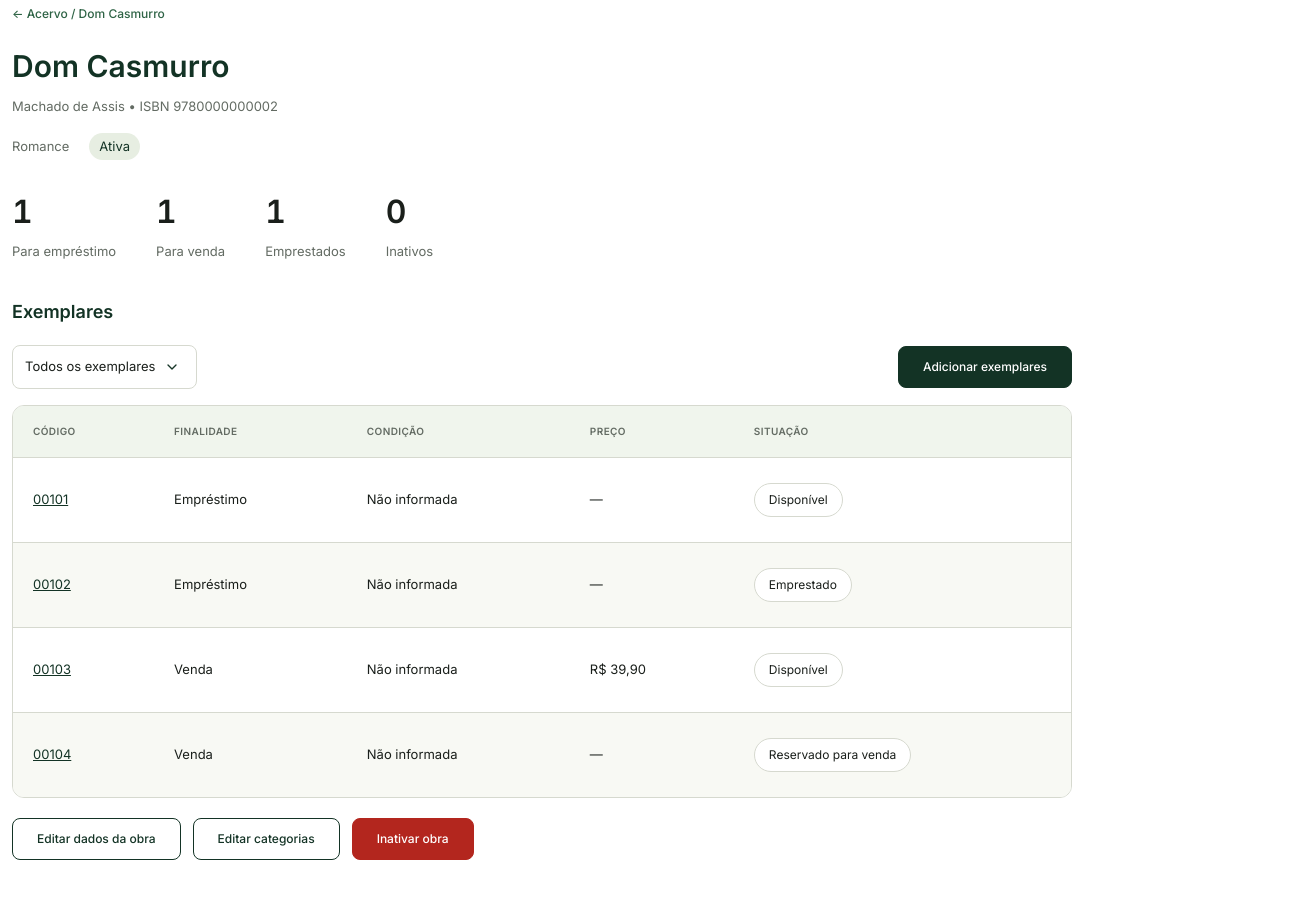
Scenario: Balcão: detalhes da obra › cancela a edição de categorias sem persistir e restaura a seleção
Step 1. Click the button "Editar categorias" → click(266, 838), box [192,818,340,860]
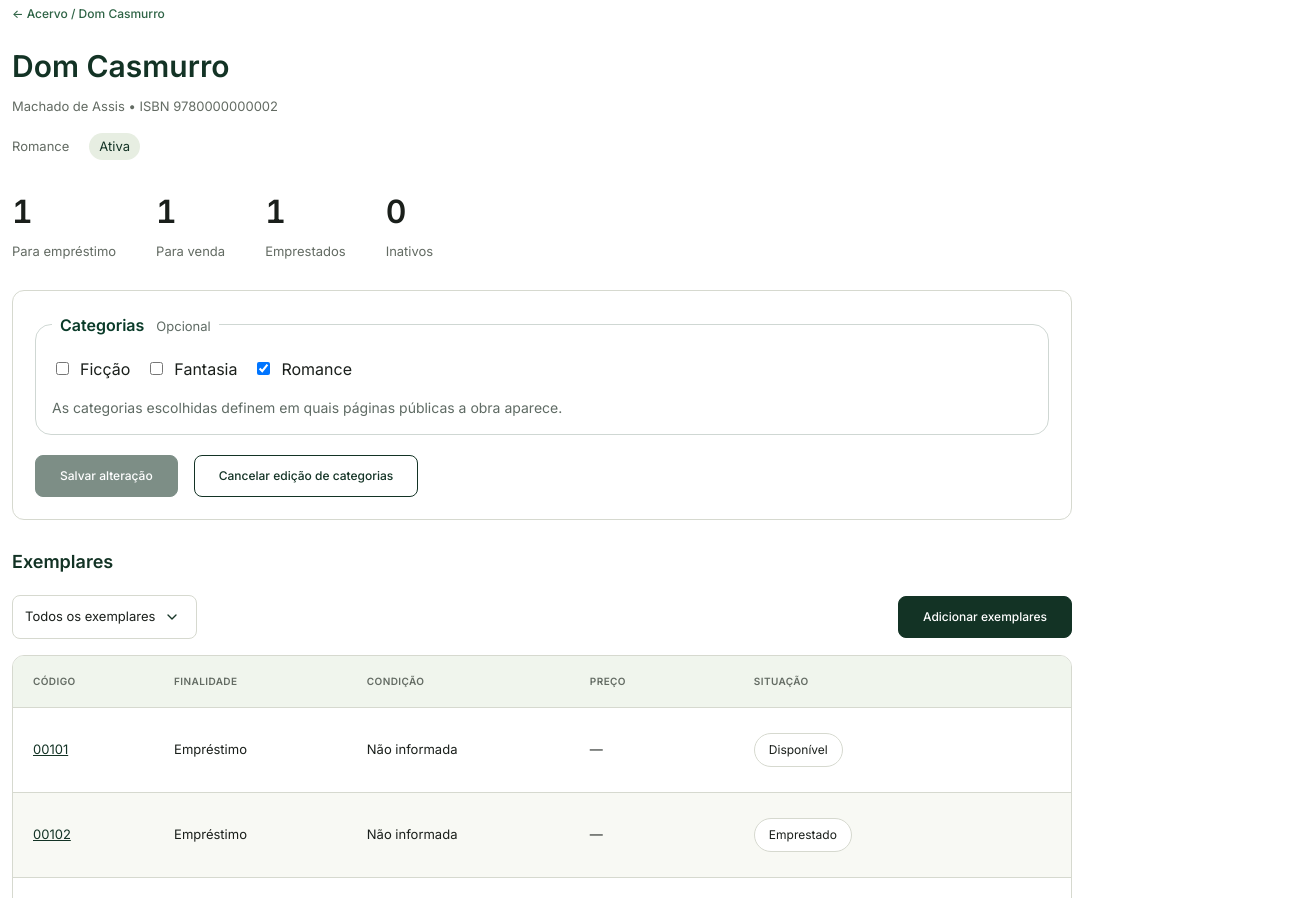
Step 2. Click the checkbox with id "book-genre-4" → click(157, 368), box [150,362,163,375]
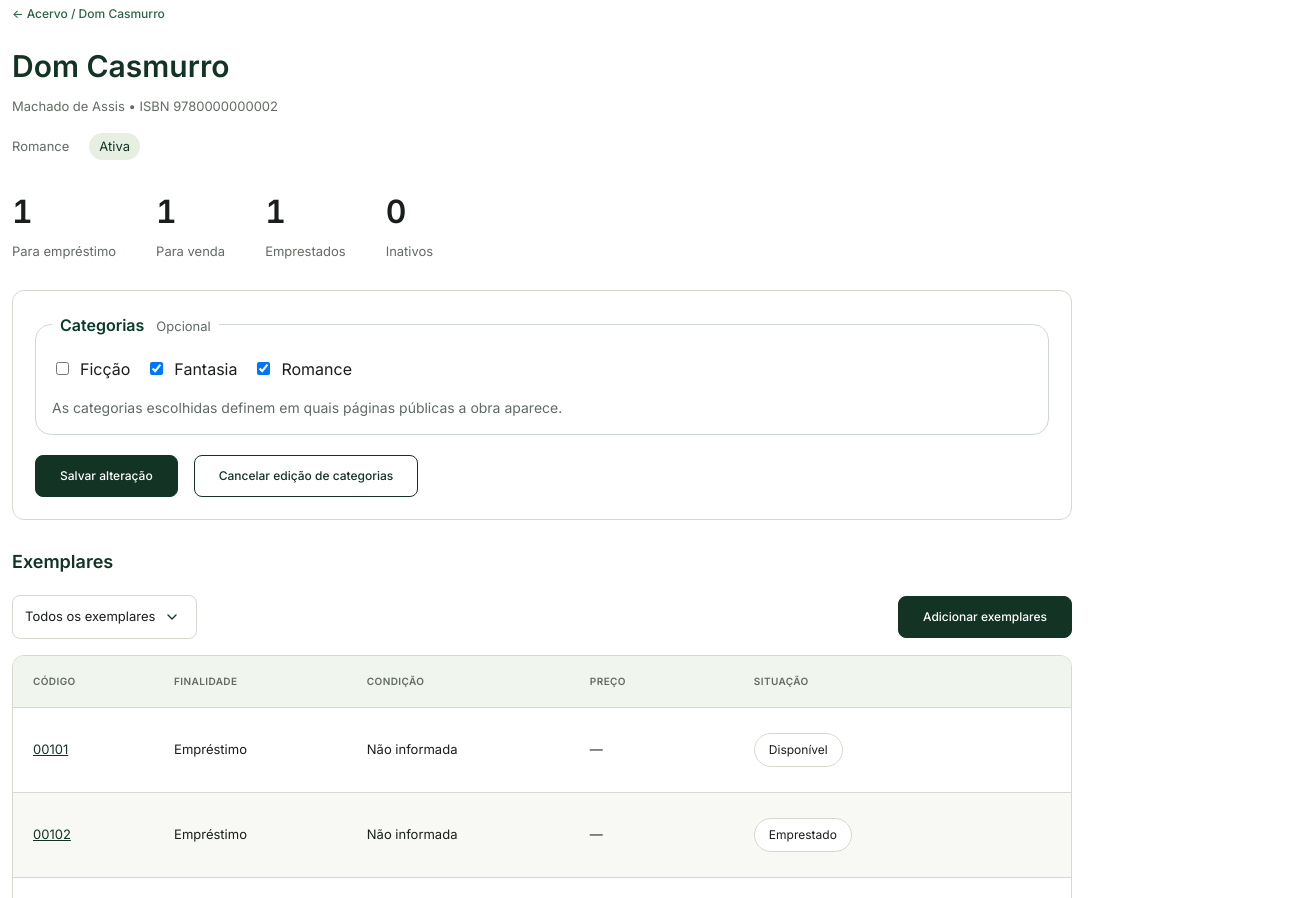
Step 3. Click the checkbox with id "book-genre-7" → click(264, 368), box [257,362,270,375]
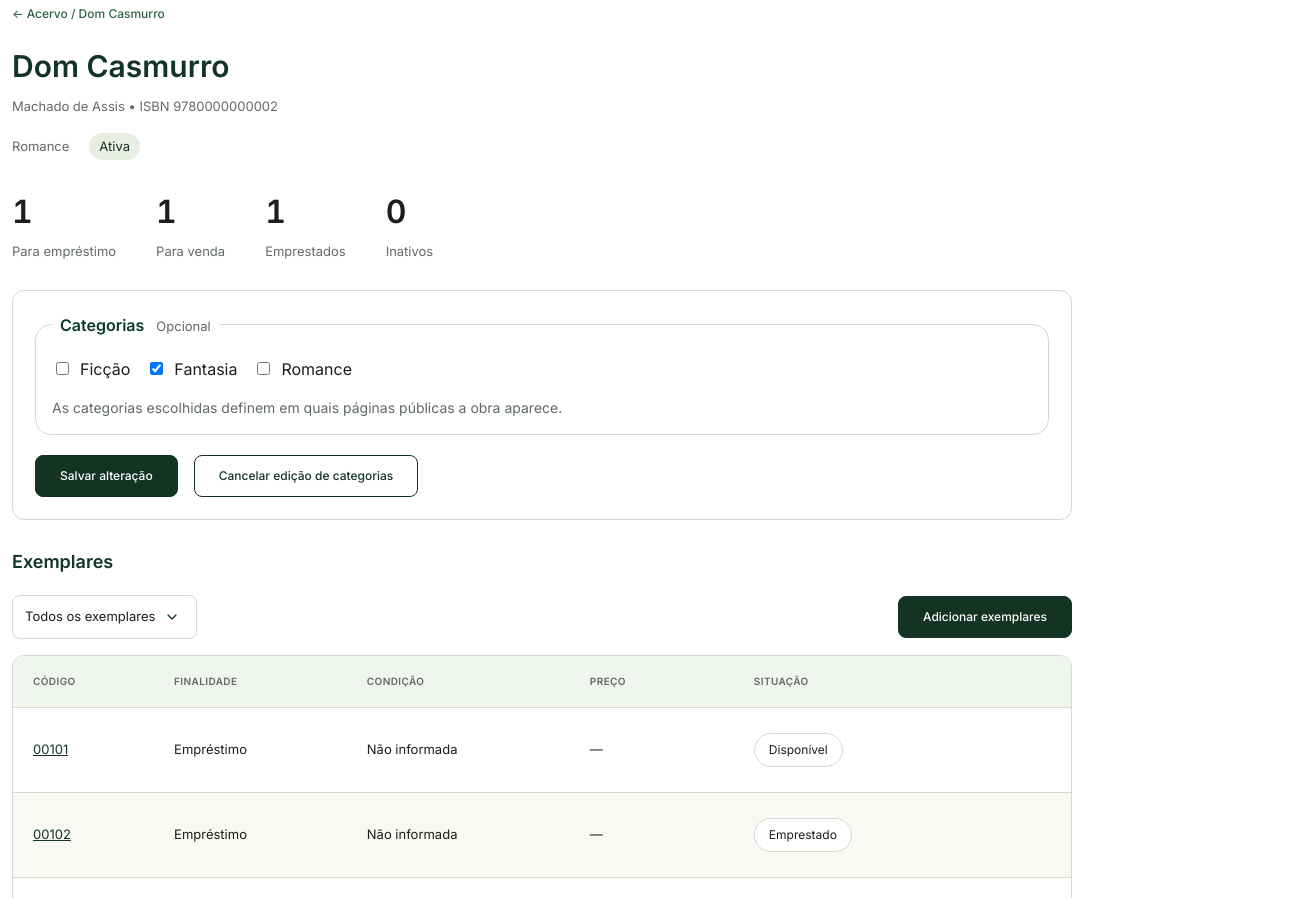
Step 4. Click the button "Cancelar edição de categorias" → click(306, 476), box [194,454,418,496]
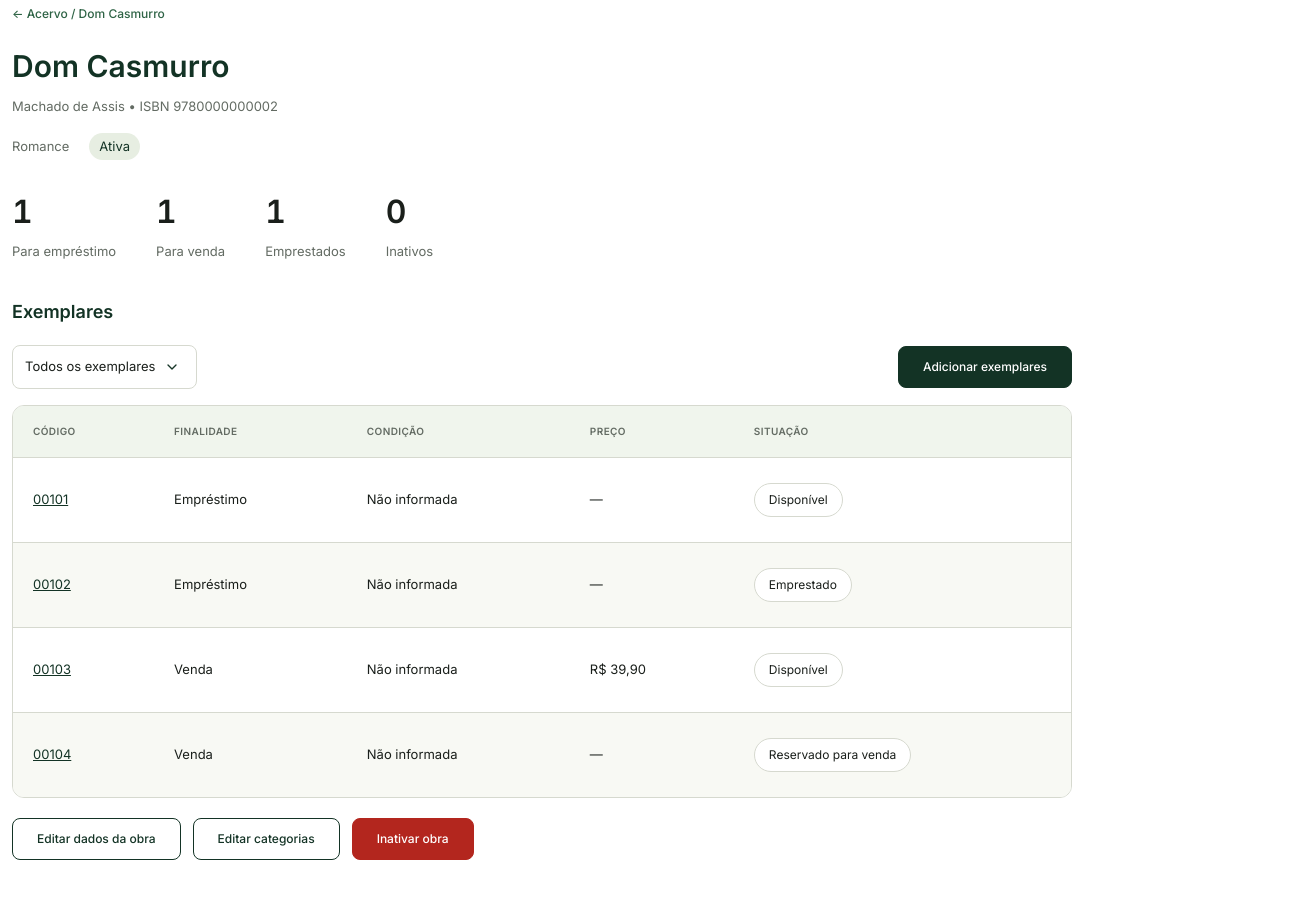
Step 5. Click the button "Editar categorias" → click(266, 838), box [192,818,340,860]
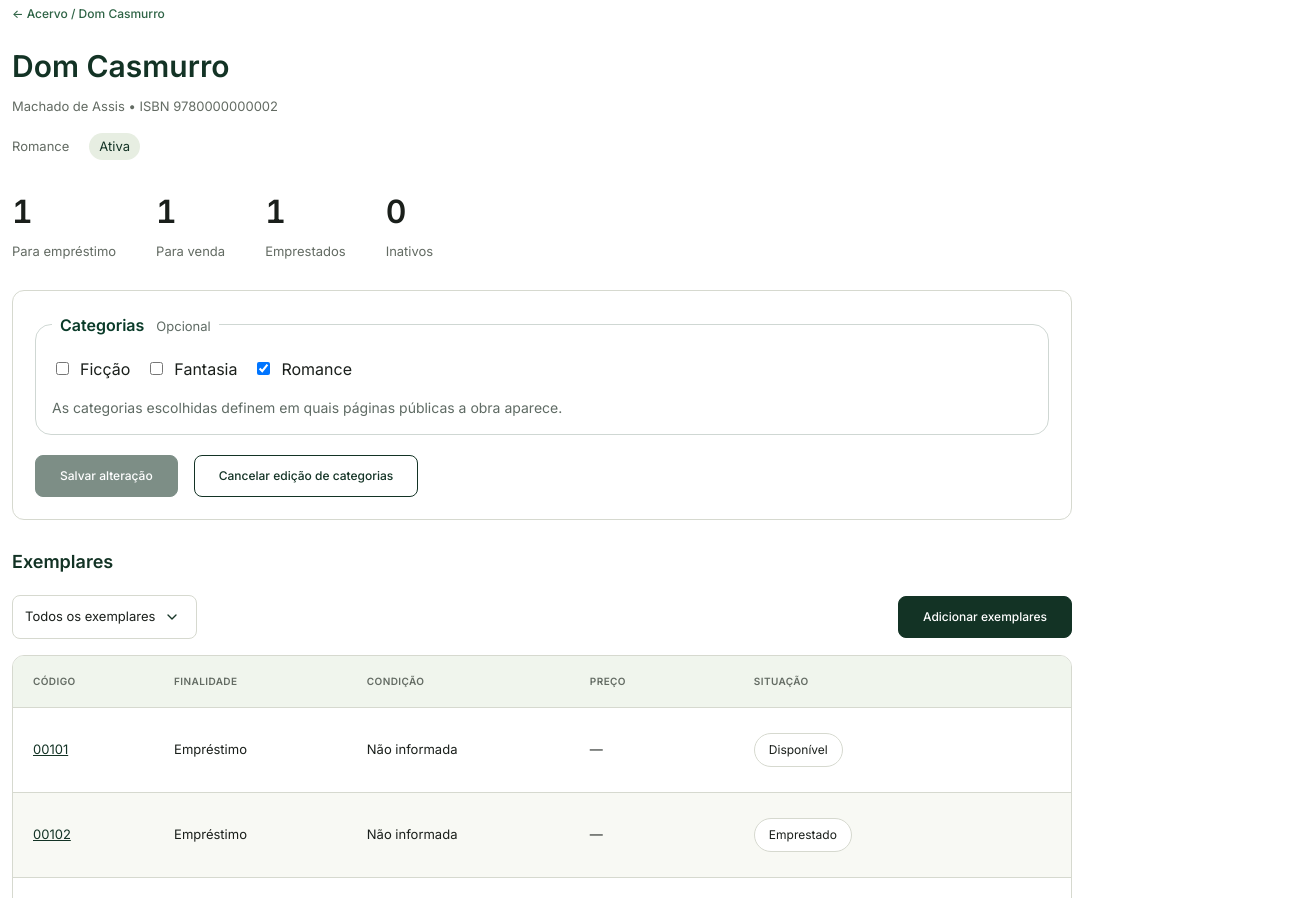
Expected: the checkbox with id "book-genre-7" is checked, [257,362,270,375]
Expected: the checkbox with id "book-genre-4" is not checked, [150,362,163,375]
